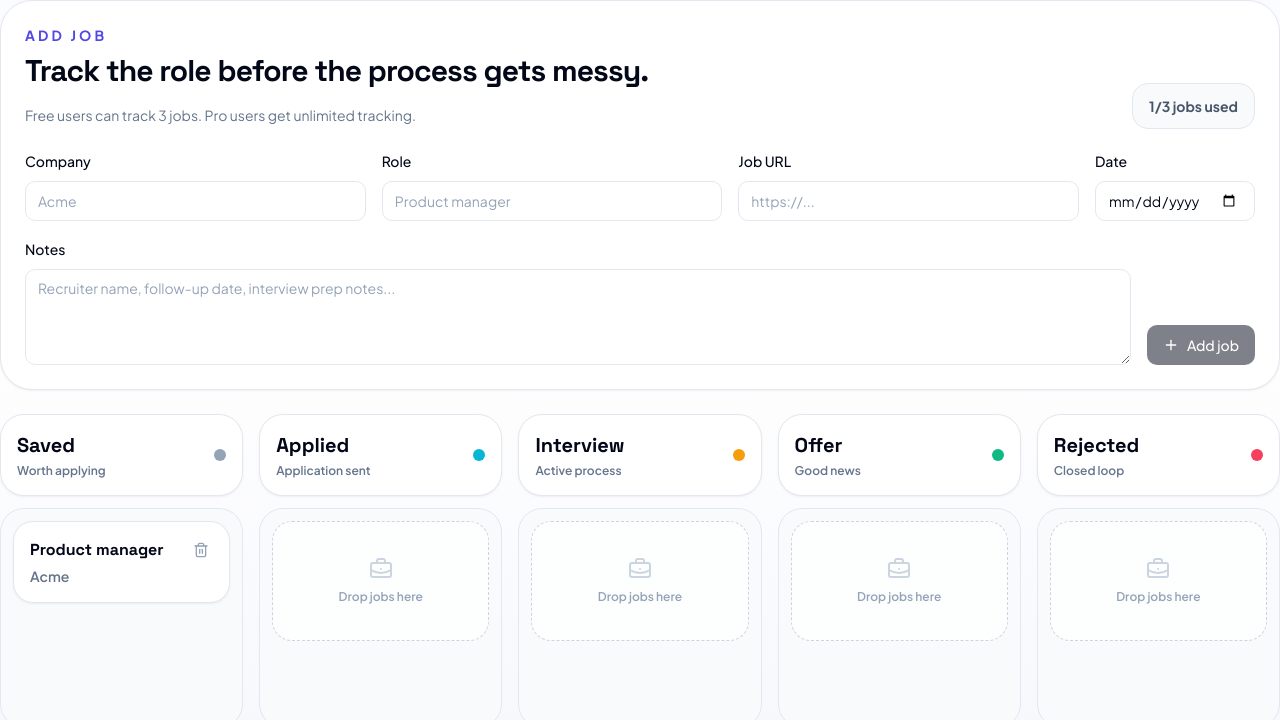
Scenario: JobTrackerBoard › restores a job to the board if deleting it fails outright
The width and height of the screenshot is (1280, 720).
Check: the heading "Product manager" is shown, box top-left (30, 538), bottom-right (164, 562)
Click the button named "Delete Product manager at Acme": (201, 550) top-left (189, 538), bottom-right (213, 562)
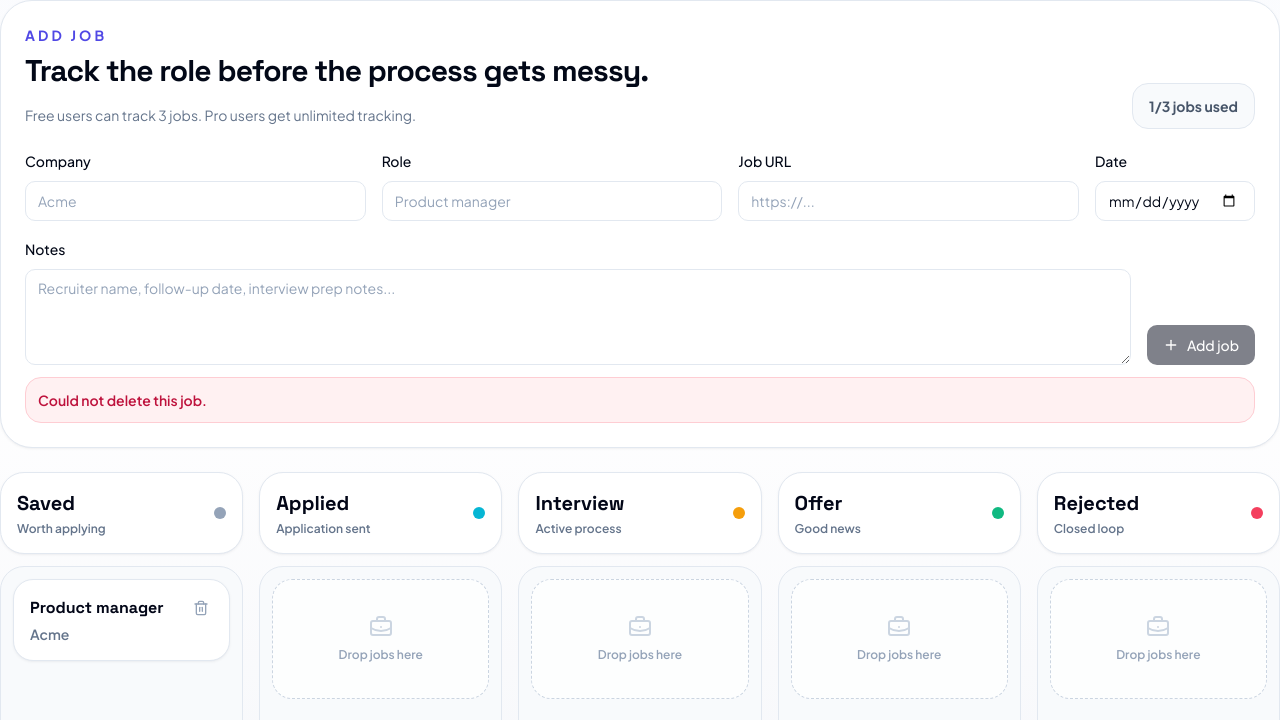
Check: the heading "Product manager" is shown, box top-left (30, 596), bottom-right (164, 620)
Check: the text "Could not delete this job." is shown, box top-left (25, 377), bottom-right (1255, 423)
